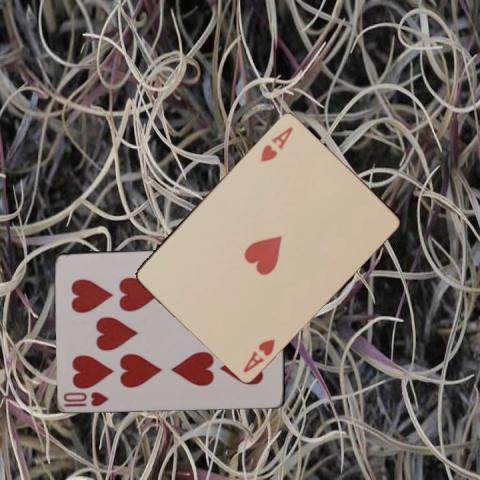10h: (61, 389, 110, 408)
Ah: (256, 123, 294, 164), (239, 335, 277, 374)
